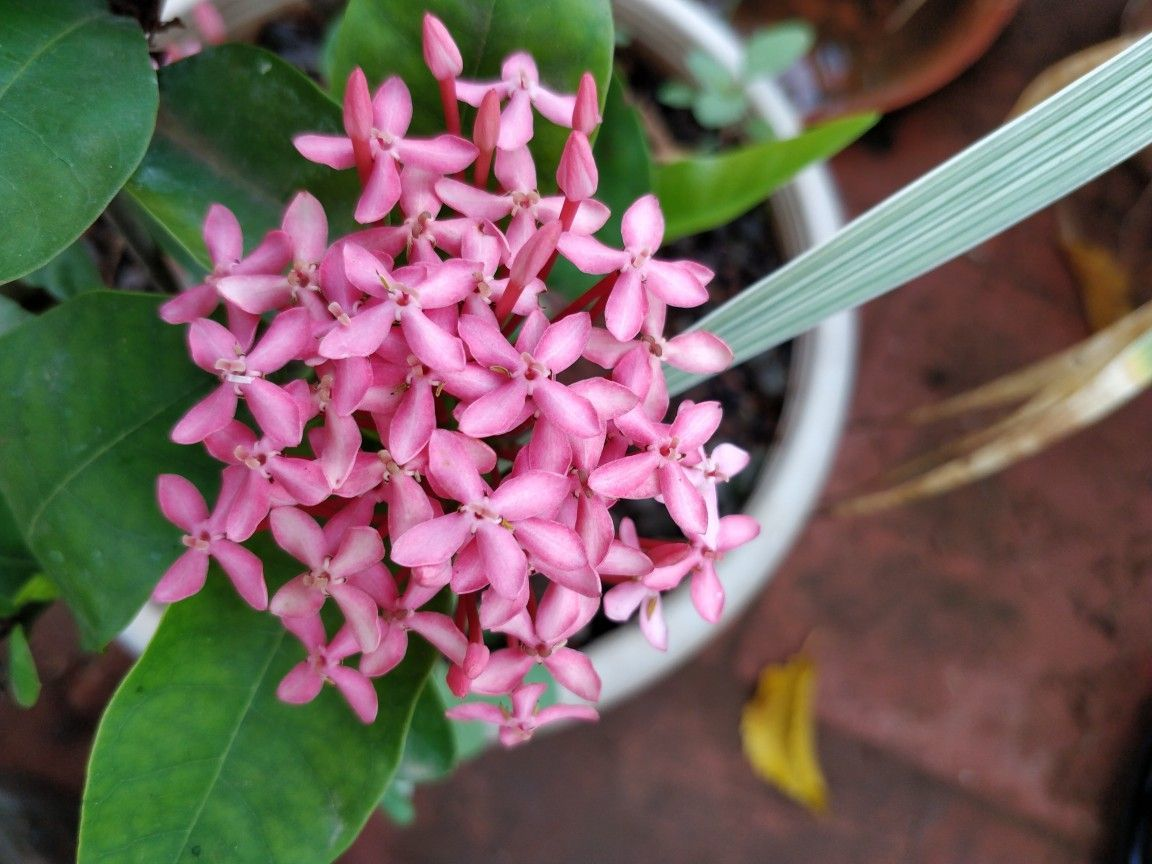ixora: (398, 439, 565, 600), (293, 83, 473, 210), (322, 243, 481, 373), (432, 148, 608, 261), (559, 199, 708, 332), (153, 462, 272, 613), (593, 392, 711, 538), (455, 319, 599, 433), (269, 505, 379, 650), (180, 319, 308, 443), (160, 202, 289, 324), (477, 588, 606, 703), (451, 52, 586, 146), (276, 604, 378, 722), (651, 514, 757, 624)
